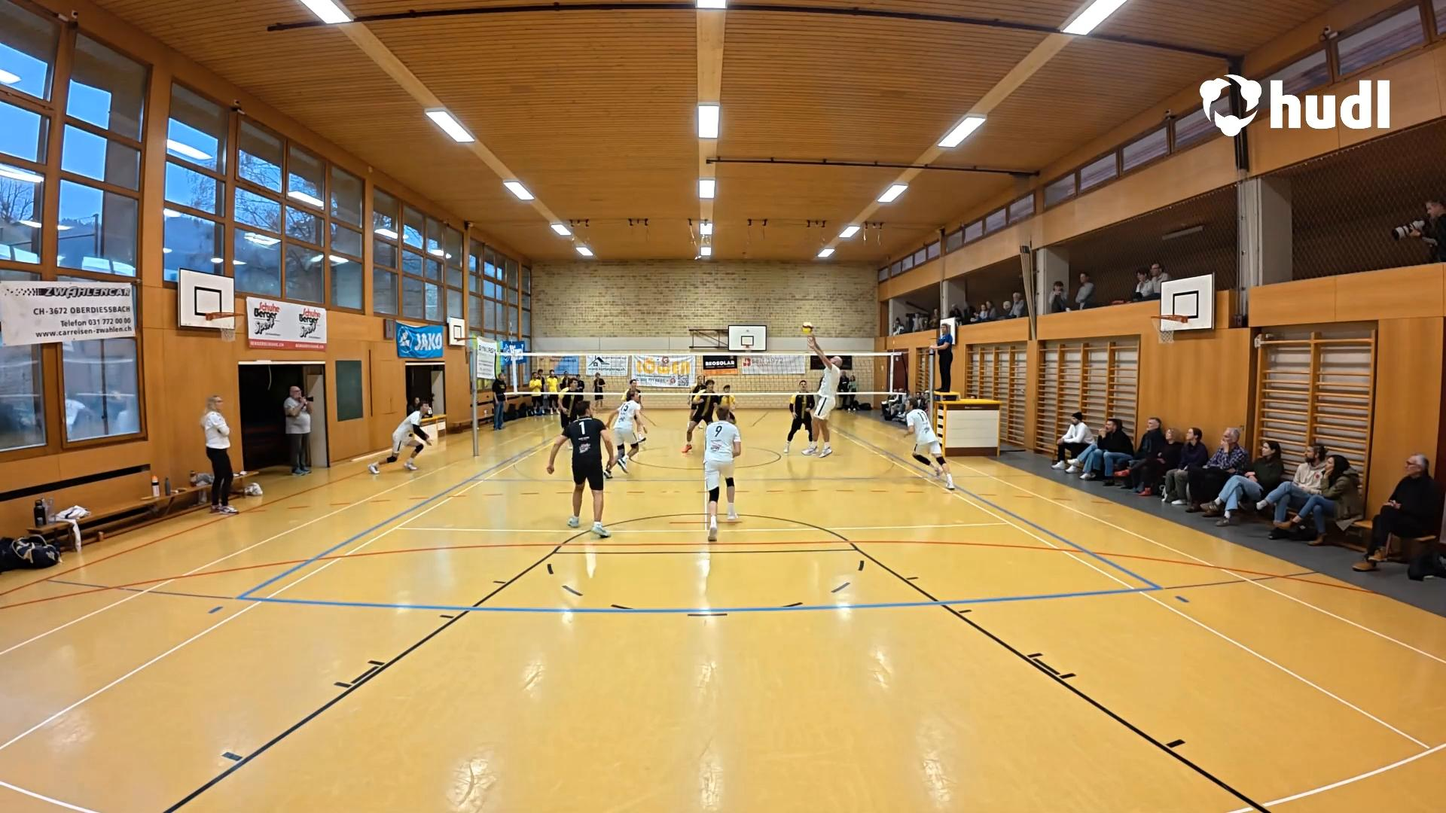alzata: (801, 322, 843, 460)
